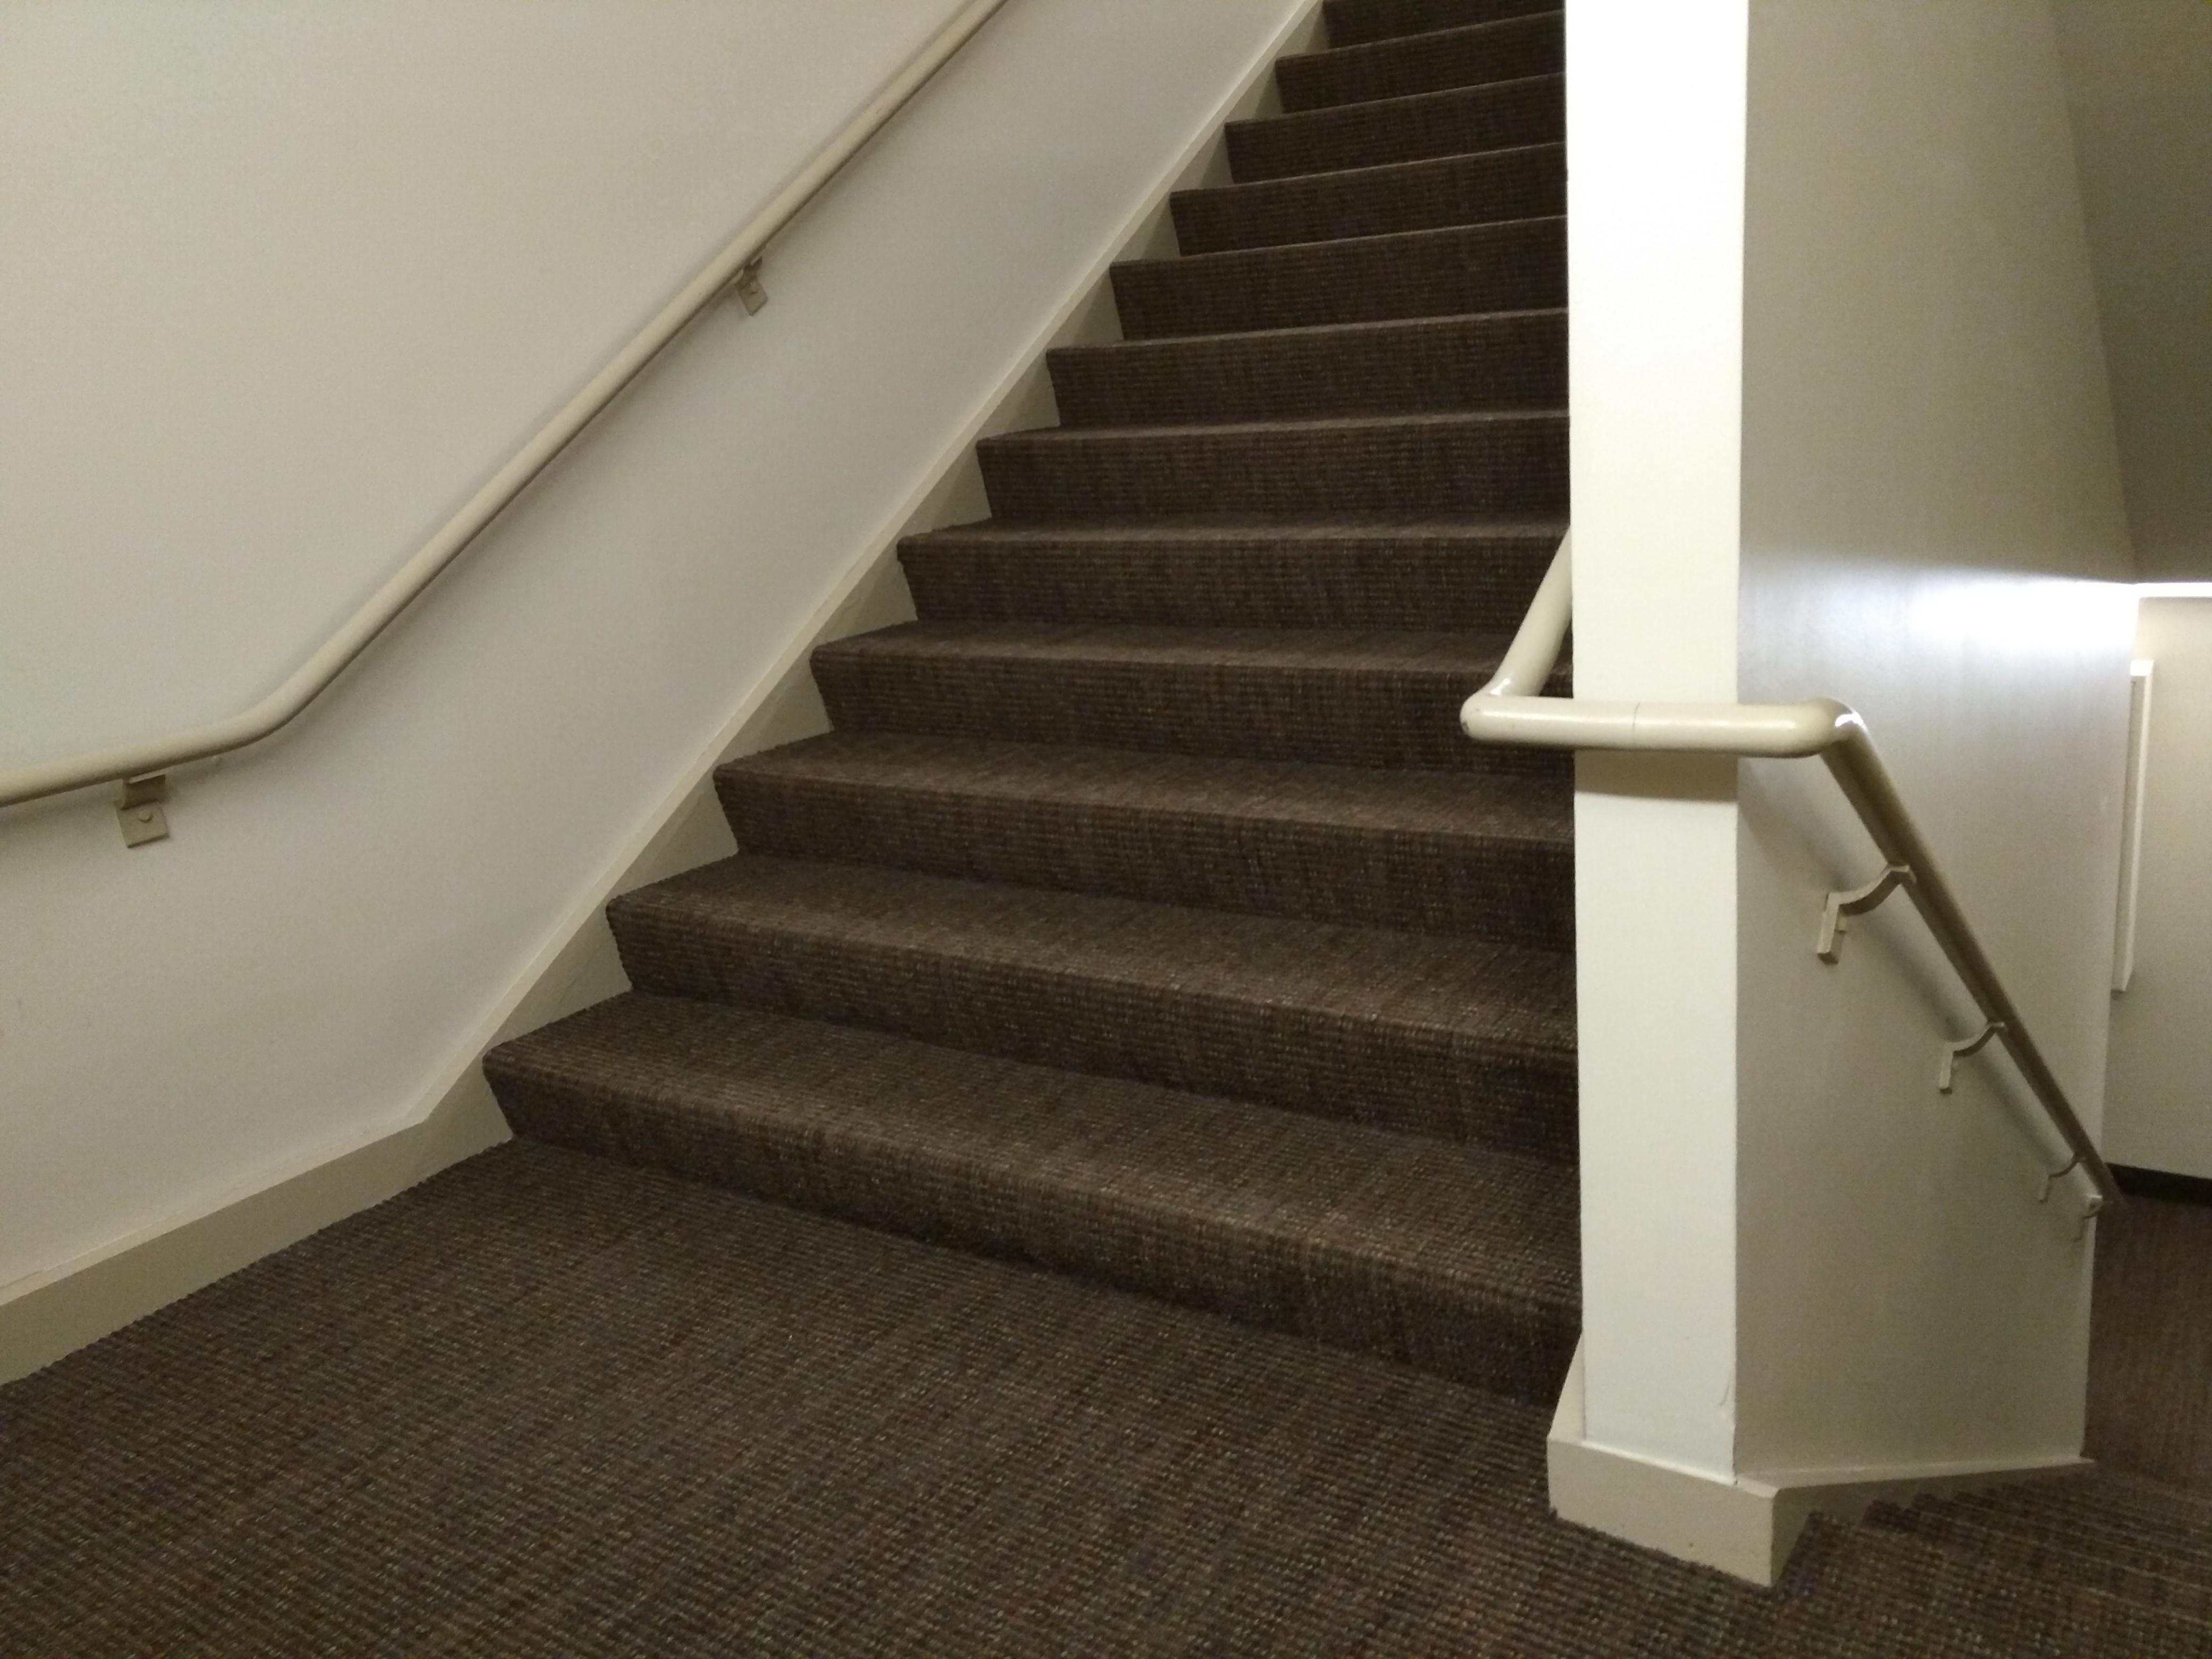stairs_up: (442, 7, 1569, 1387)
